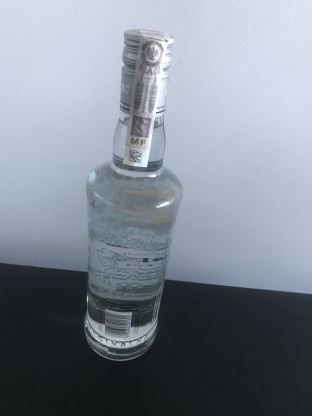nakretka: (118, 22, 176, 120)
